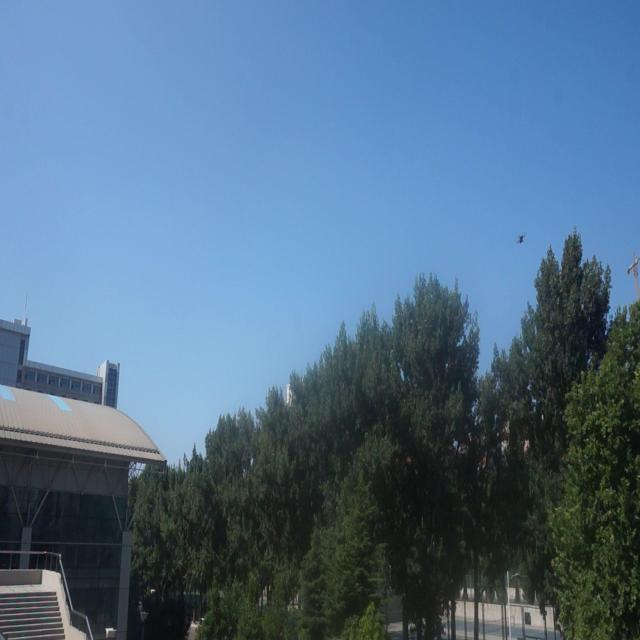drone: (514, 228, 528, 250)
